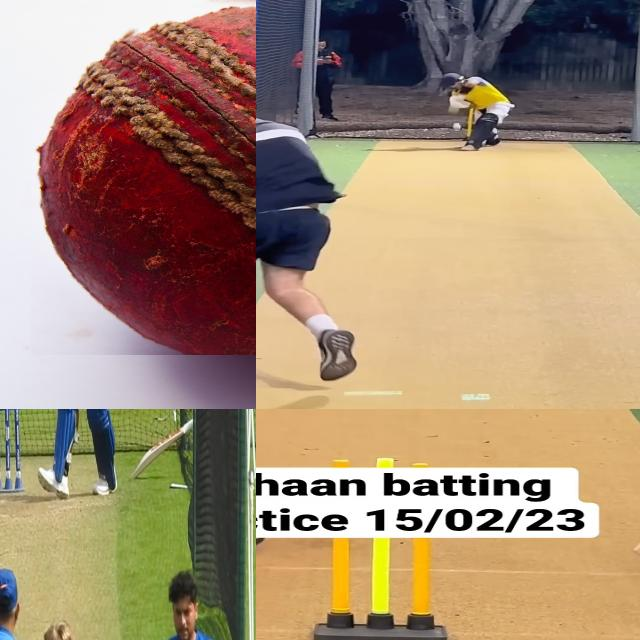Cricket ball: (30, 0, 256, 355), (452, 122, 462, 130)
Stumps: (316, 536, 442, 640), (0, 409, 23, 496)
